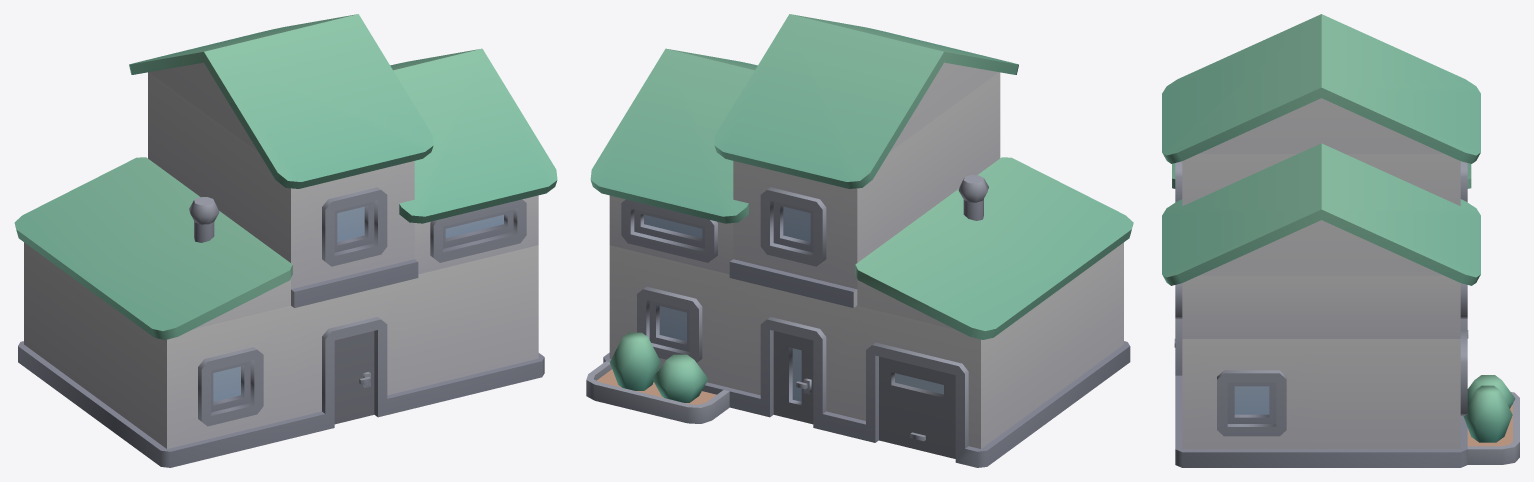
The model's file is building-type-c.glb.
3 views of the same model, side by side, from view 1: azimuth 30°, elevation 25°; view 2: azimuth 150°, elevation 25°; view 3: azimuth 270°, elevation 25° (orthographic). The views are drawn at different scales.
Visible parts, largest first — view 1: building-type-c; view 2: building-type-c; view 3: building-type-c.
Part boxes in pixels (x1,y1,x2,y2): building-type-c: (14,14,557,467); building-type-c: (586,14,1133,467); building-type-c: (1162,14,1519,467).
Size of the model in its own units: 1.29 by 1.03 by 1.03.
